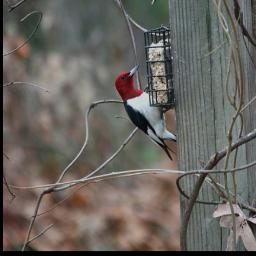Woodpecker: (109, 61, 183, 164)
